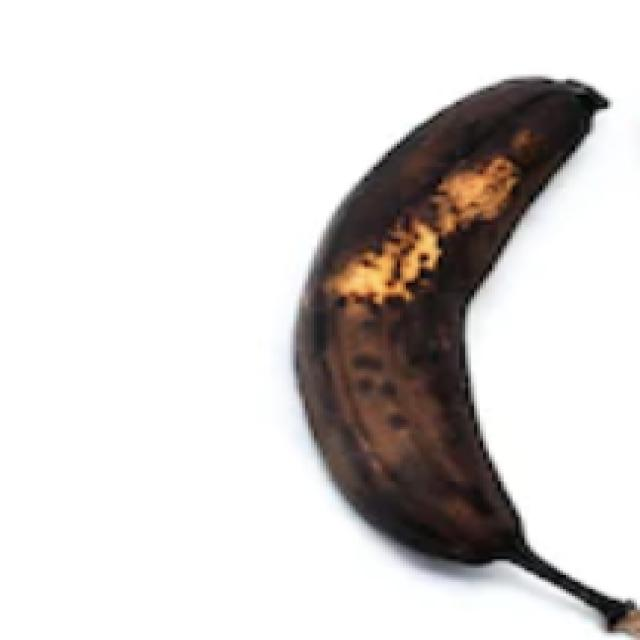rotten-banana: (287, 72, 637, 638)
